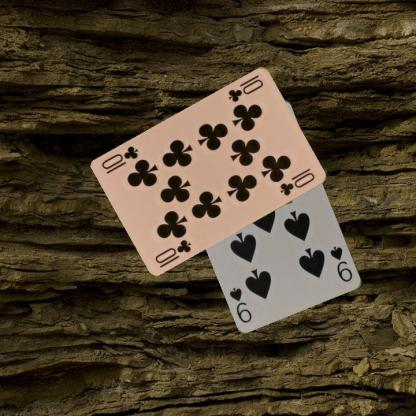10c: (153, 236, 193, 269), (225, 76, 265, 103)
9s: (328, 243, 354, 284)
